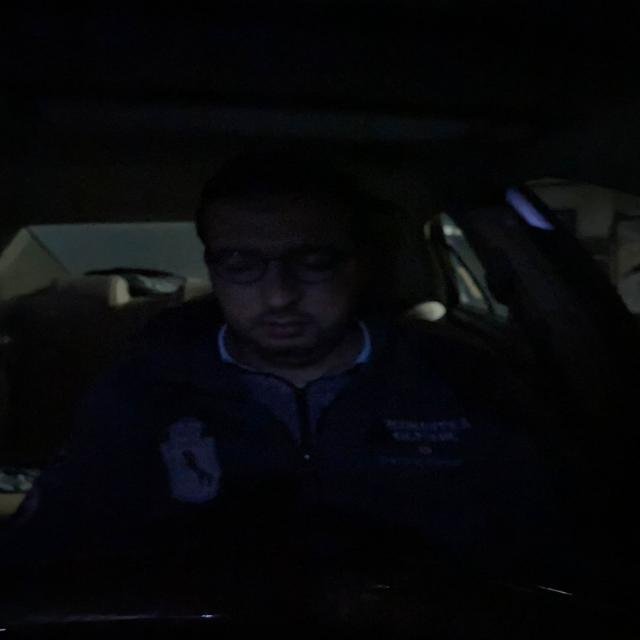drowsy: (184, 155, 386, 364)
